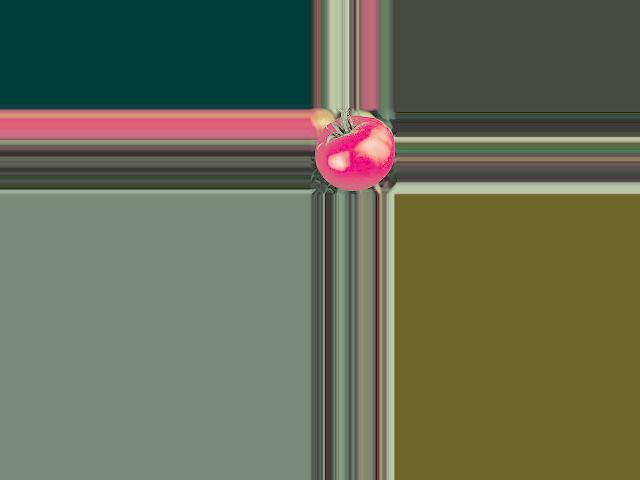tomato: (316, 116, 395, 191)
